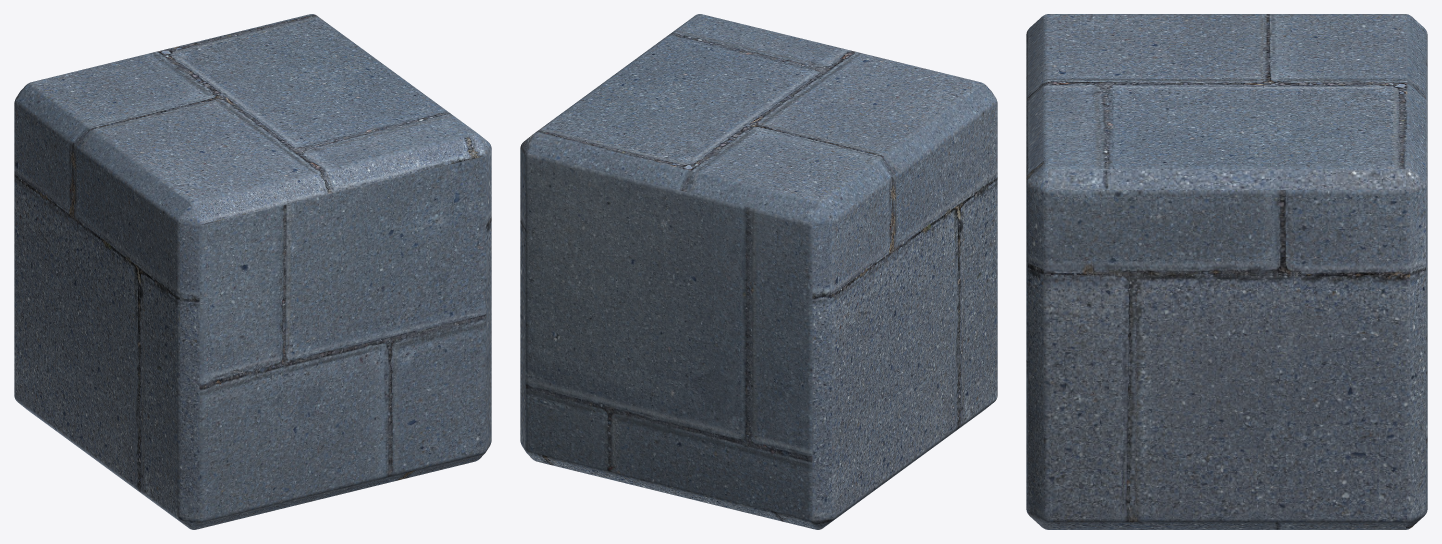
File: block.gltf
The picture shows the model from 3 angles, left to right: view 1: azimuth 30°, elevation 25°; view 2: azimuth 150°, elevation 25°; view 3: azimuth 270°, elevation 25°; orthographic projection. The views are drawn at different scales.
Parts seen in each view (by area): view 1: Cube; view 2: Cube; view 3: Cube.
Part boxes in pixels (x1,y1,x2,y2): Cube: (14,14,491,529); Cube: (520,14,997,529); Cube: (1026,14,1427,529).
Bounding box in the file's own units: 1 × 1 × 1.
1 material, 1 textured.
